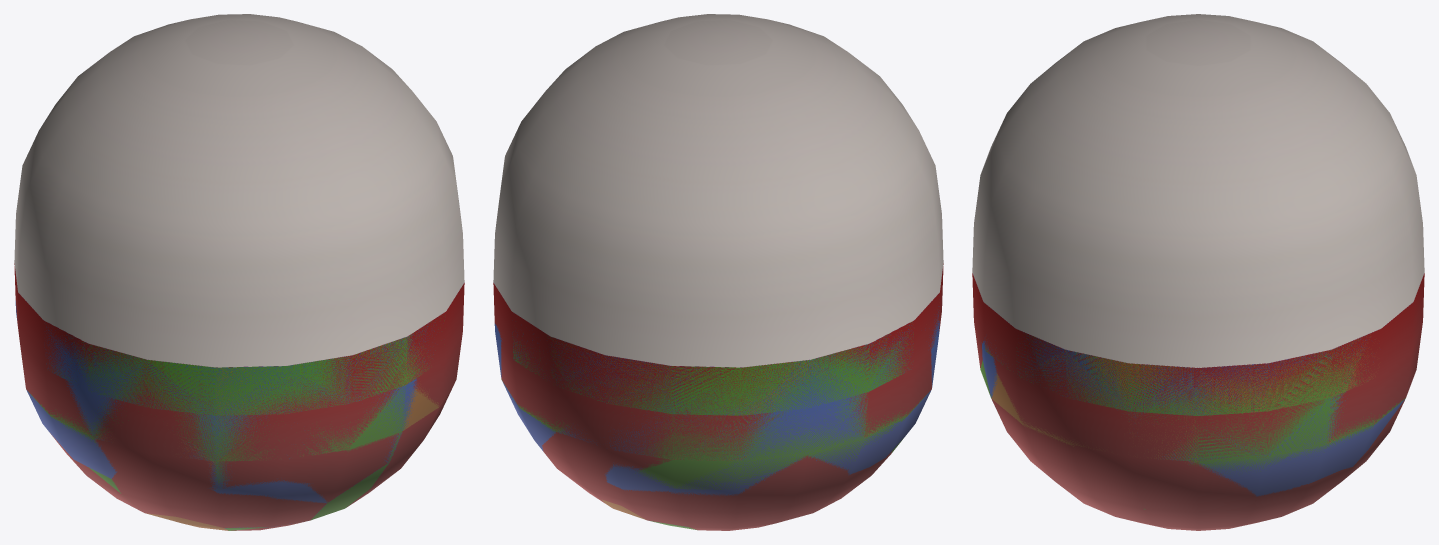
Rendered from highjn_niudan_Geo_Grp.fbx.
The picture shows the model from 3 angles, left to right: view 1: azimuth 30°, elevation 25°; view 2: azimuth 150°, elevation 25°; view 3: azimuth 270°, elevation 25°; orthographic projection.
Parts seen in each view (by area): view 1: gaijn_niudan_Geo, hongjn_niudan_Geo, lvjn_niudan_Geo, lanjn_niudan_Geo, huangjn_niudan_Geo; view 2: gaijn_niudan_Geo, hongjn_niudan_Geo, lvjn_niudan_Geo, lanjn_niudan_Geo, huangjn_niudan_Geo; view 3: gaijn_niudan_Geo, hongjn_niudan_Geo, lvjn_niudan_Geo, lanjn_niudan_Geo, huangjn_niudan_Geo.
Boxes of the visible parts, x1,y1,x2,y2 form: gaijn_niudan_Geo: (14, 14, 464, 367); hongjn_niudan_Geo: (14, 263, 464, 530); lvjn_niudan_Geo: (28, 320, 444, 530); lanjn_niudan_Geo: (15, 301, 434, 528); huangjn_niudan_Geo: (50, 335, 441, 530); gaijn_niudan_Geo: (493, 14, 943, 367); hongjn_niudan_Geo: (493, 263, 943, 530); lvjn_niudan_Geo: (501, 330, 933, 530); lanjn_niudan_Geo: (494, 306, 939, 526); huangjn_niudan_Geo: (520, 338, 919, 520); gaijn_niudan_Geo: (972, 14, 1424, 367); hongjn_niudan_Geo: (972, 273, 1424, 530); lvjn_niudan_Geo: (980, 335, 1405, 509); lanjn_niudan_Geo: (981, 334, 1404, 496); huangjn_niudan_Geo: (987, 334, 1398, 464).
Size of the model in its own units: 15.25 by 17.55 by 15.26.
Materials: 1 (1 with a texture image).
